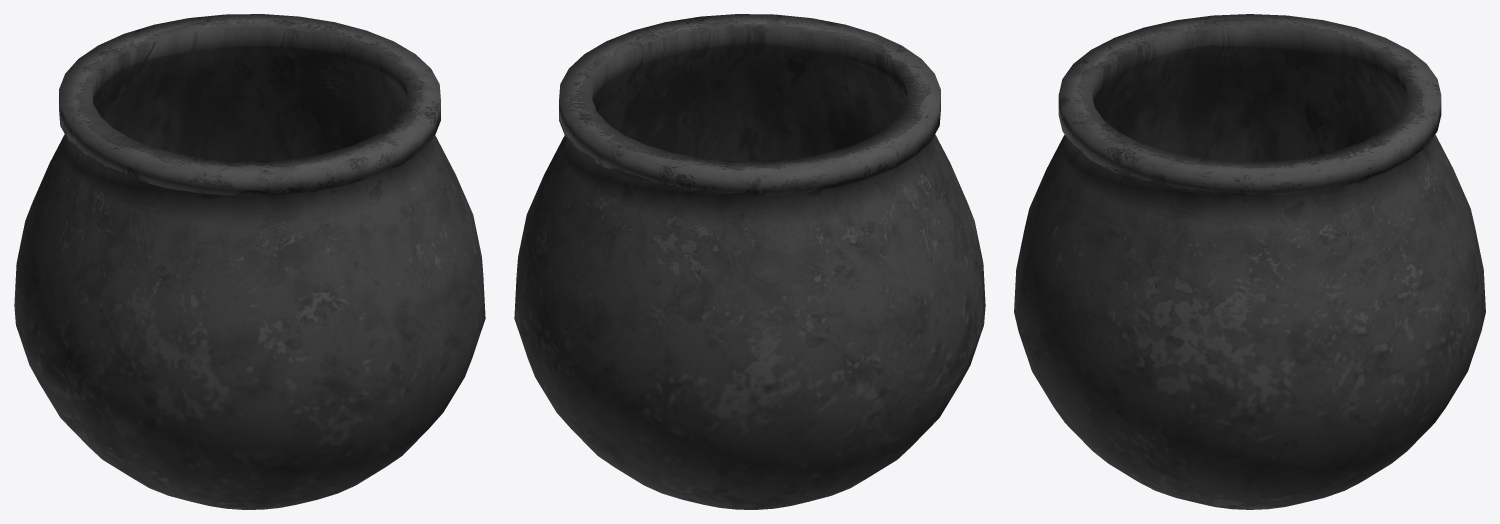
File: cauldron.fbx
3 renders of one model, left to right at view 1: azimuth 30°, elevation 25°; view 2: azimuth 150°, elevation 25°; view 3: azimuth 270°, elevation 25°, orthographic.
Visible parts, largest first — view 1: Cauldron; view 2: Cauldron; view 3: Cauldron.
Boxes of the visible parts, box(x1,y1,x2,y2) form: Cauldron: box(14, 14, 485, 509); Cauldron: box(514, 14, 985, 509); Cauldron: box(1014, 14, 1485, 509).
Bounding box in the file's own units: 1141 × 1141 × 1048.
1 material, 1 textured.
